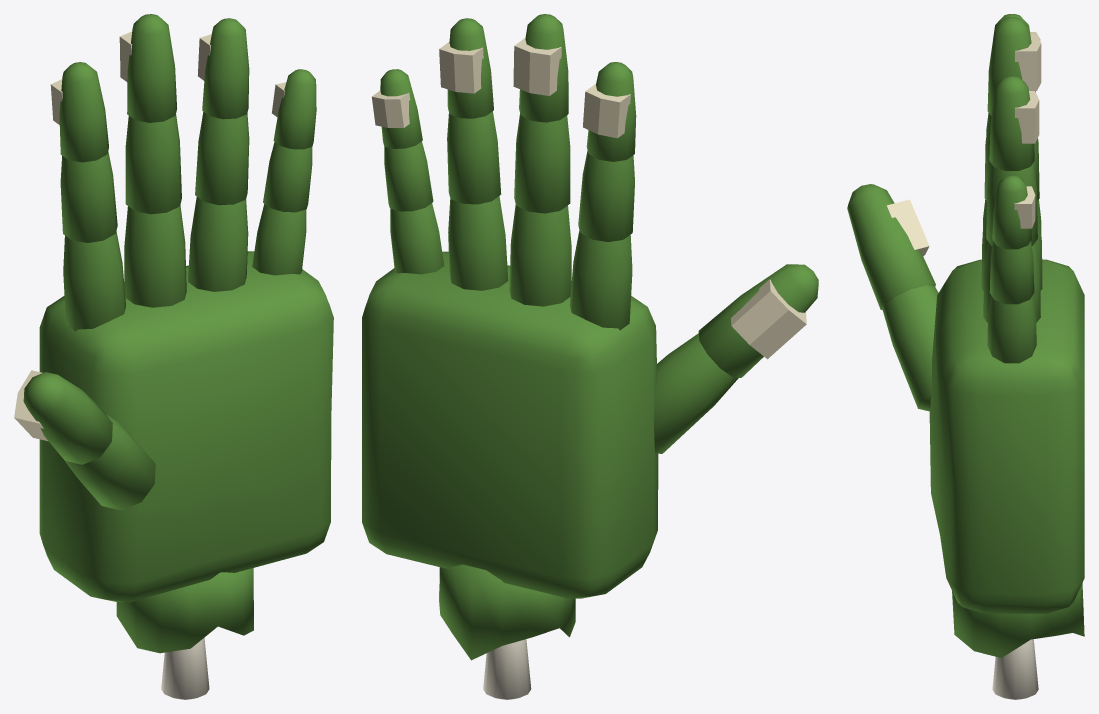
Rendered from mano_orco.glb.
3 views of the same model, side by side, from view 1: azimuth 30°, elevation 25°; view 2: azimuth 150°, elevation 25°; view 3: azimuth 270°, elevation 25° (orthographic). The views are drawn at different scales.
Parts seen in each view (by area): view 1: palma, muneca, medio_falange1, pulgar_falange2, indice_falange1, medio_falange2, anular_falange1, medio_falange3, anular_falange2, indice_falange2, pulgar_falange1, indice_falange3 (+6 smaller); view 2: palma, muneca, medio_falange1, pulgar_falange1, indice_falange1, medio_falange2, anular_falange1, pulgar_falange2, anular_falange2, indice_falange2, pulgar_una, menique_falange1 (+10 smaller); view 3: palma, pulgar_falange2, muneca, pulgar_falange1, anular_falange3, menique_falange1, menique_falange2, medio_falange3, menique_falange3, muneca_hueso, anular_falange2, pulgar_una (+6 smaller).
Boxes of the visible parts, x1,y1,x2,y2 form: palma: [39, 251, 333, 602]; muneca: [116, 568, 253, 653]; medio_falange1: [124, 205, 186, 307]; pulgar_falange2: [23, 372, 112, 464]; indice_falange1: [63, 231, 125, 331]; medio_falange2: [125, 114, 181, 214]; anular_falange1: [188, 197, 248, 291]; medio_falange3: [127, 14, 176, 122]; anular_falange2: [195, 111, 249, 205]; indice_falange2: [60, 151, 117, 242]; pulgar_falange1: [65, 414, 155, 510]; indice_falange3: [59, 62, 108, 162]; palma: [362, 251, 658, 598]; muneca: [439, 564, 575, 660]; medio_falange1: [509, 205, 571, 306]; pulgar_falange1: [654, 333, 738, 453]; indice_falange1: [570, 230, 632, 330]; medio_falange2: [514, 113, 570, 213]; anular_falange1: [448, 196, 508, 290]; pulgar_falange2: [698, 264, 818, 377]; anular_falange2: [447, 111, 501, 204]; indice_falange2: [578, 151, 634, 241]; pulgar_una: [731, 279, 806, 359]; menique_falange1: [390, 203, 444, 274]; palma: [929, 259, 1084, 613]; pulgar_falange2: [847, 184, 935, 309]; muneca: [952, 583, 1084, 657]; pulgar_falange1: [882, 285, 938, 411]; anular_falange3: [989, 76, 1034, 170]; menique_falange1: [987, 295, 1036, 363]; menique_falange2: [989, 241, 1034, 304]; medio_falange3: [987, 17, 1035, 115]; menique_falange3: [992, 175, 1031, 249]; muneca_hueso: [992, 639, 1038, 699]; anular_falange2: [986, 162, 1037, 245]; pulgar_una: [886, 199, 929, 256].
Size of the model in its own units: 2.32 by 4.22 by 1.37.
